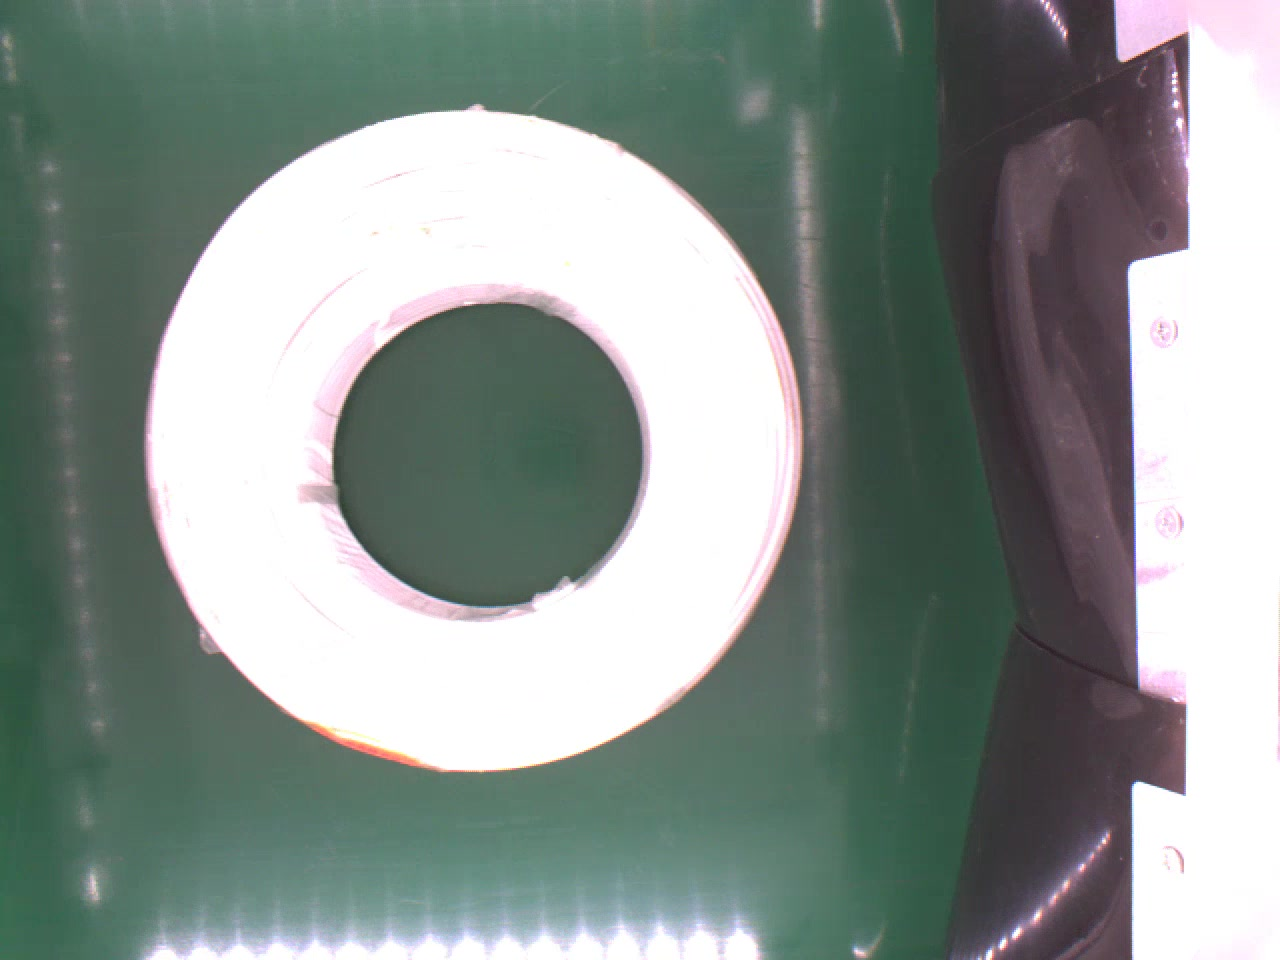white: (146, 101, 812, 786)
